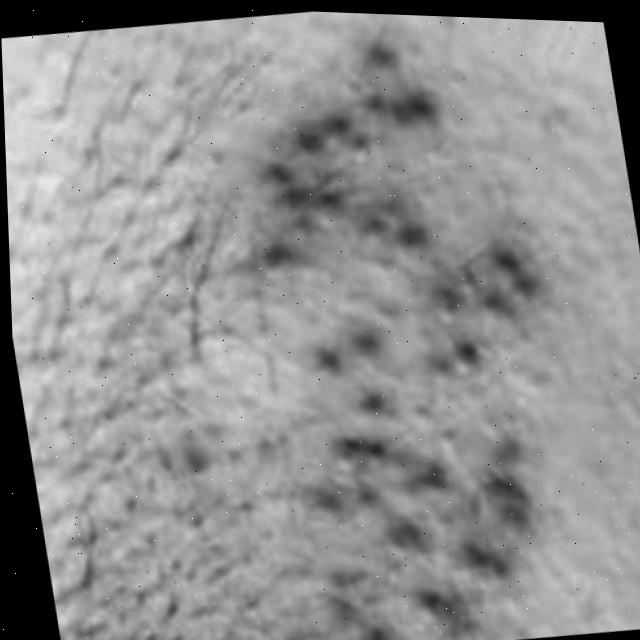Shingles: (163, 11, 593, 640)
